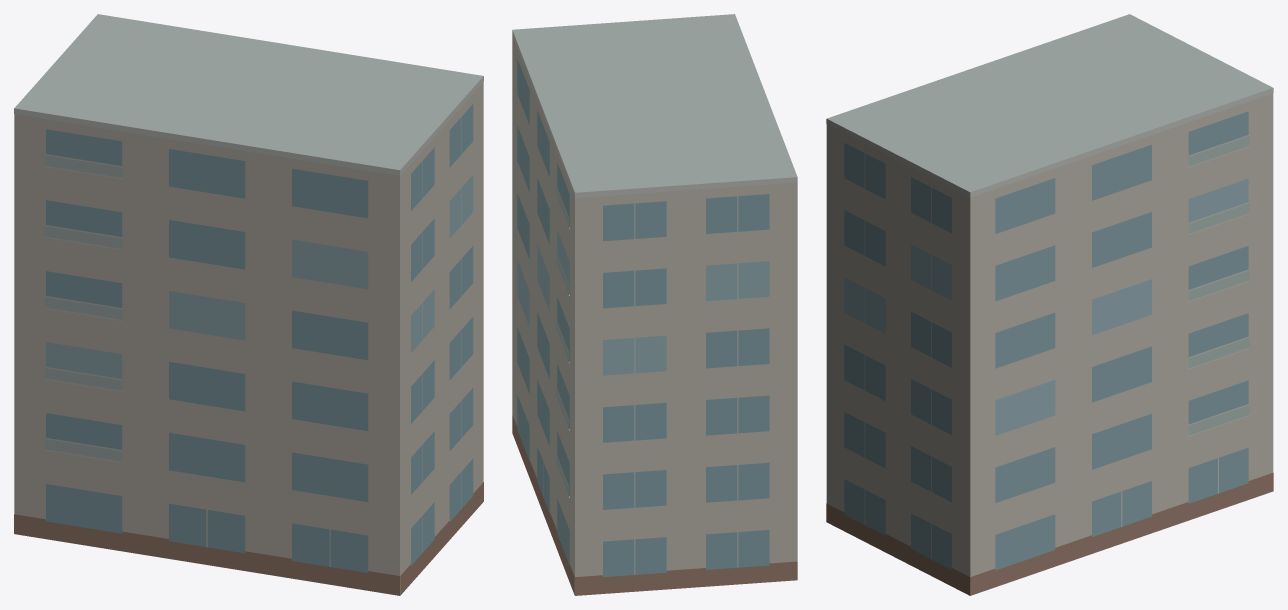
Rendered from survey-upis-32986459.glb.
The picture shows the model from 3 angles, left to right: view 1: azimuth 30°, elevation 25°; view 2: azimuth 150°, elevation 25°; view 3: azimuth 270°, elevation 25°; orthographic projection. The views are drawn at different scales.
Visible parts, largest first — view 1: survey-upis-32986459.tmp; view 2: survey-upis-32986459.tmp; view 3: survey-upis-32986459.tmp.
Boxes of the visible parts, box(x1,y1,x2,y2) form: survey-upis-32986459.tmp: box(14, 14, 483, 595); survey-upis-32986459.tmp: box(512, 14, 797, 595); survey-upis-32986459.tmp: box(826, 14, 1273, 595).
Bounding box in the file's own units: 17.35 × 18.3 × 18.37.
